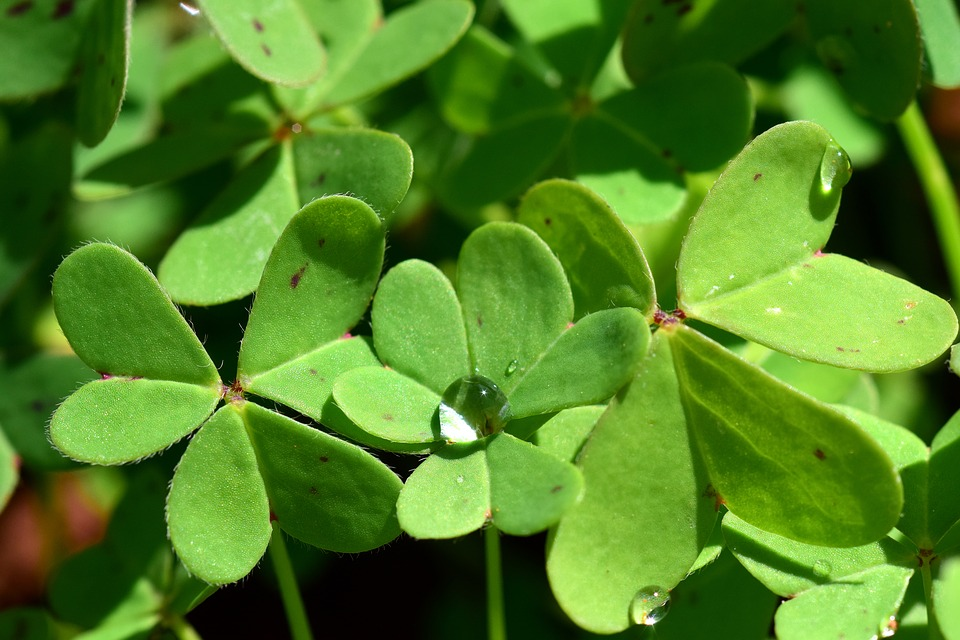oxalis: (33, 20, 920, 614)
